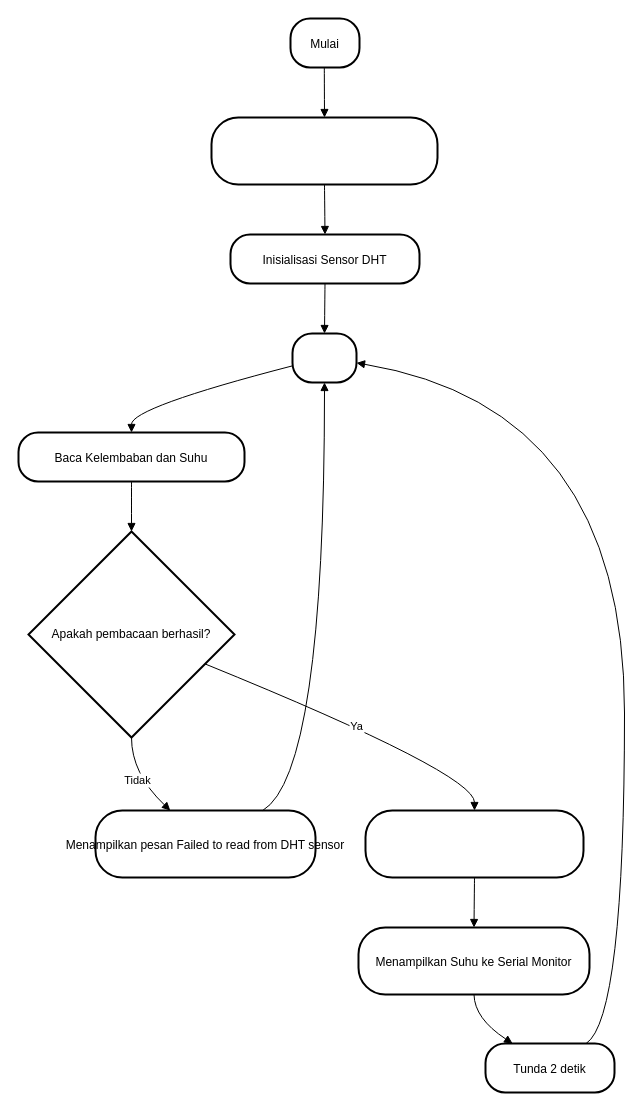
Image size: 642x1110. Some labels were removed from this diagram. The box of each missing label's shape, as (x1, y1, x2, y2) in pixels:
Inisialisasi Serial pada 9600 bps: (210, 116, 438, 185)
Loop: (291, 332, 357, 383)
Menampilkan Kelembaban ke Serial Monitor: (364, 809, 584, 878)
